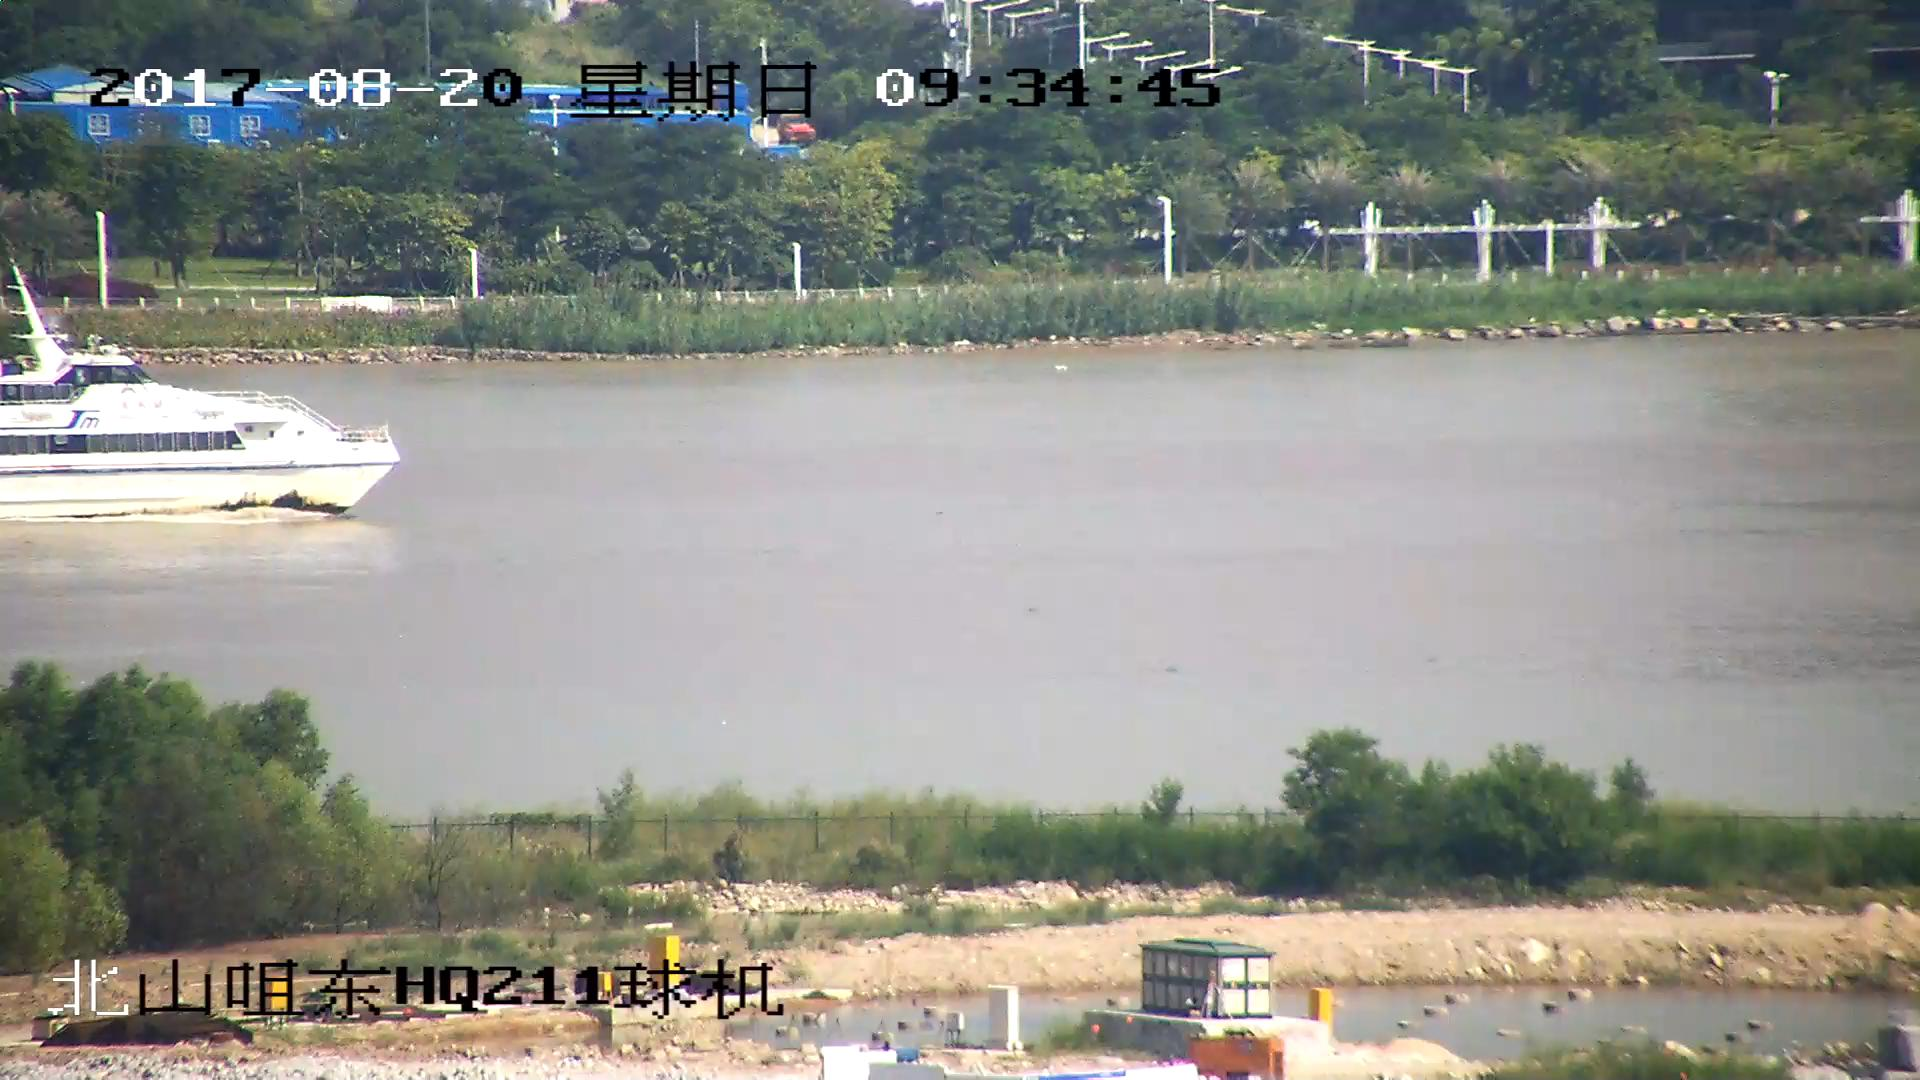passenger ship: (1, 255, 408, 525)
